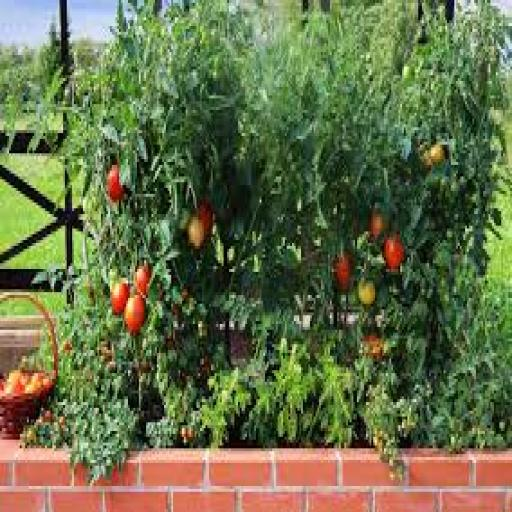tomato: (125, 296, 146, 335), (334, 252, 353, 292), (384, 235, 405, 271), (110, 281, 129, 315), (107, 165, 124, 202), (197, 200, 214, 237), (188, 215, 205, 248), (365, 333, 383, 361), (136, 264, 151, 297), (370, 212, 387, 240), (357, 281, 376, 306), (6, 371, 25, 396), (430, 142, 445, 164), (421, 151, 432, 170), (26, 382, 41, 393), (26, 429, 36, 445), (403, 64, 412, 80), (42, 377, 52, 390), (44, 411, 52, 422), (0, 379, 5, 396), (64, 342, 72, 352)
